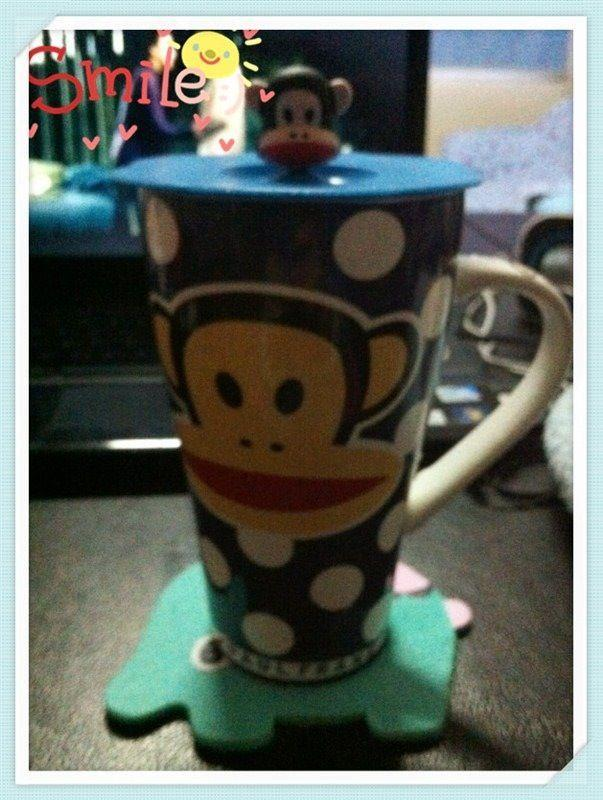Paul_Frank_Julius: (143, 271, 417, 542)
